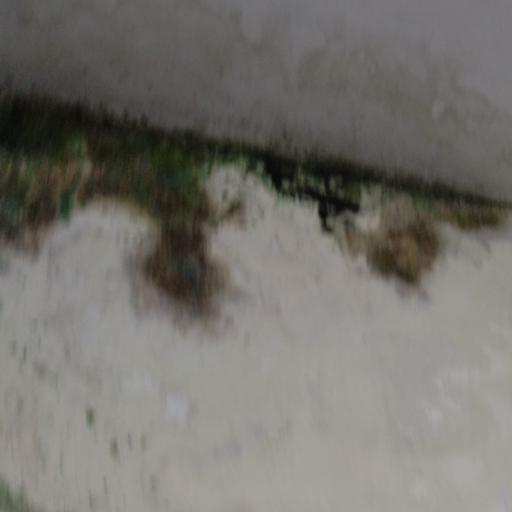algae: (0, 61, 512, 344)
